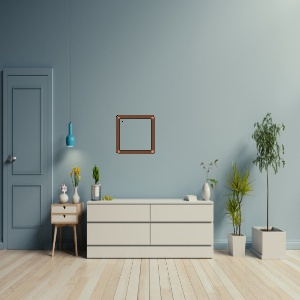square: (113, 112, 158, 157)
